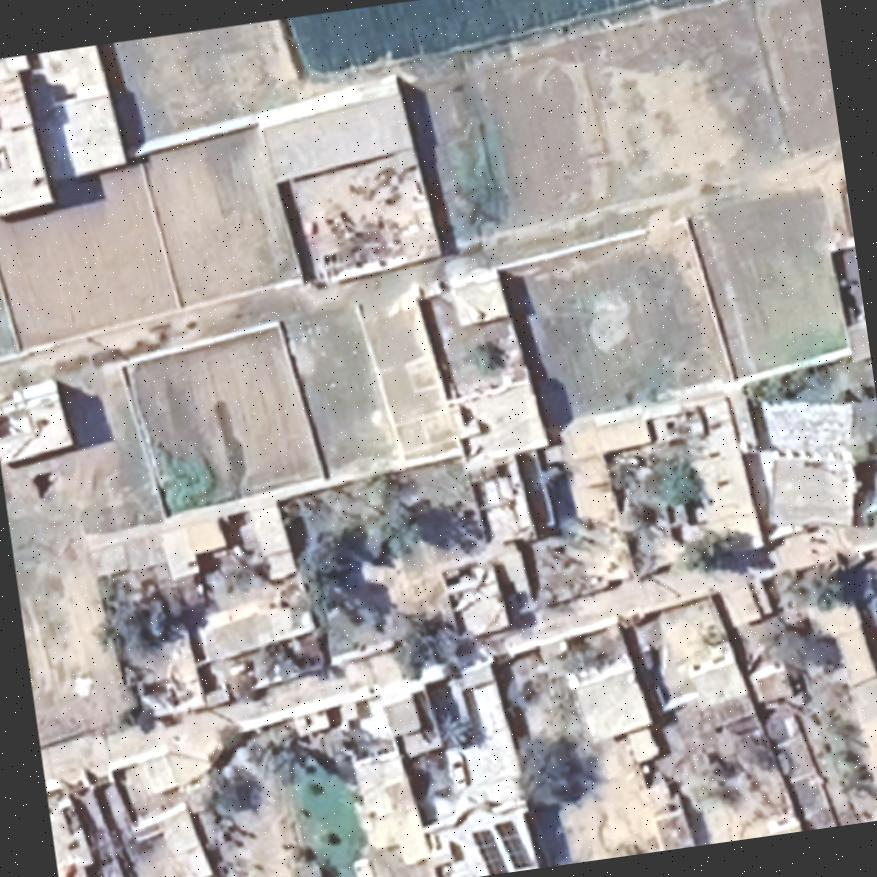Solarpanel: (489, 810, 536, 873), (466, 822, 511, 876)
